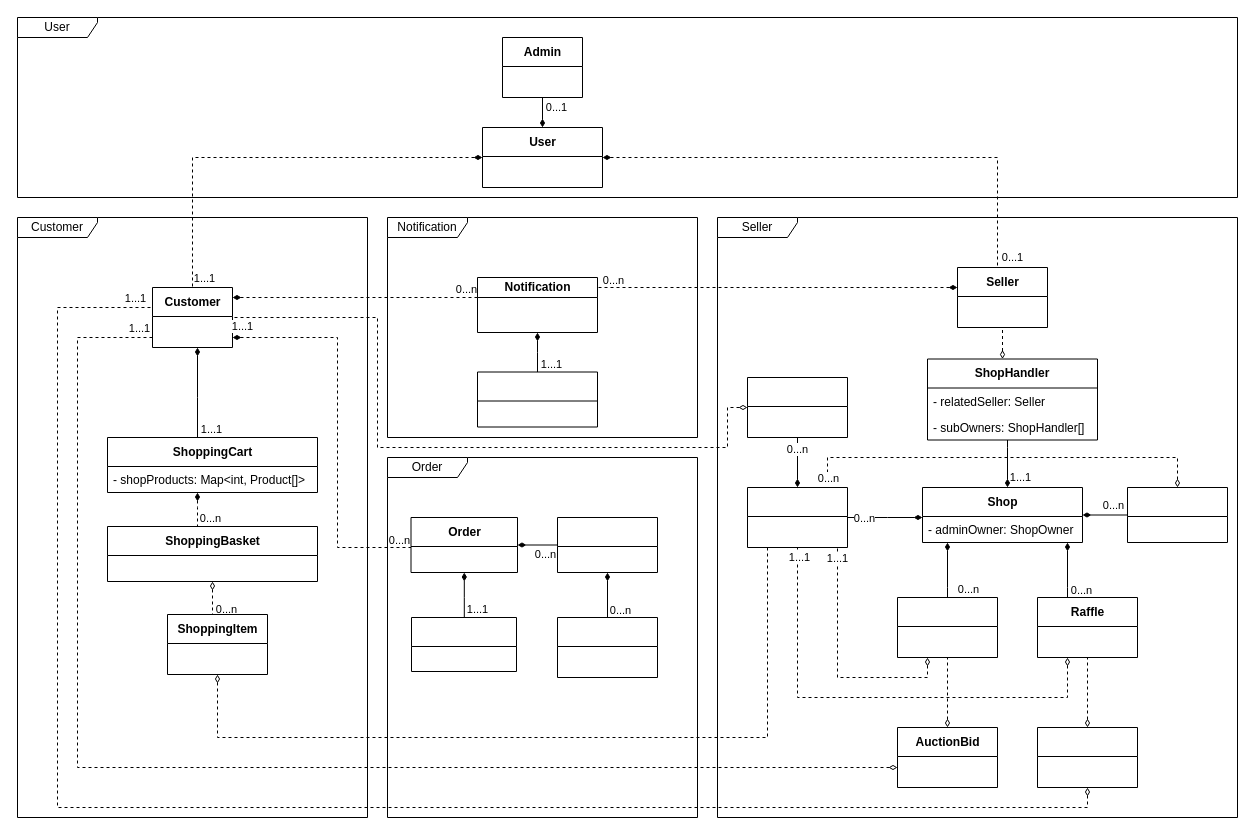
The diagram is 1255 pixels wide and 835 high, and some of its shapes have lost their labels. The centre of each missing label's shape, as x and y in pixels:
"Auction" belongs at point 947,627.
"DiscountRule?" belongs at point 1177,514.
"NotificationType" belongs at point 537,399.
"OrderBasket" belongs at point 607,544.
"OrderItem" belongs at point 607,647.
"Payment" belongs at point 463,644.
"Product" belongs at point 797,517.
"RaffleBid" belongs at point 1087,757.
"Review" belongs at point 797,407.
